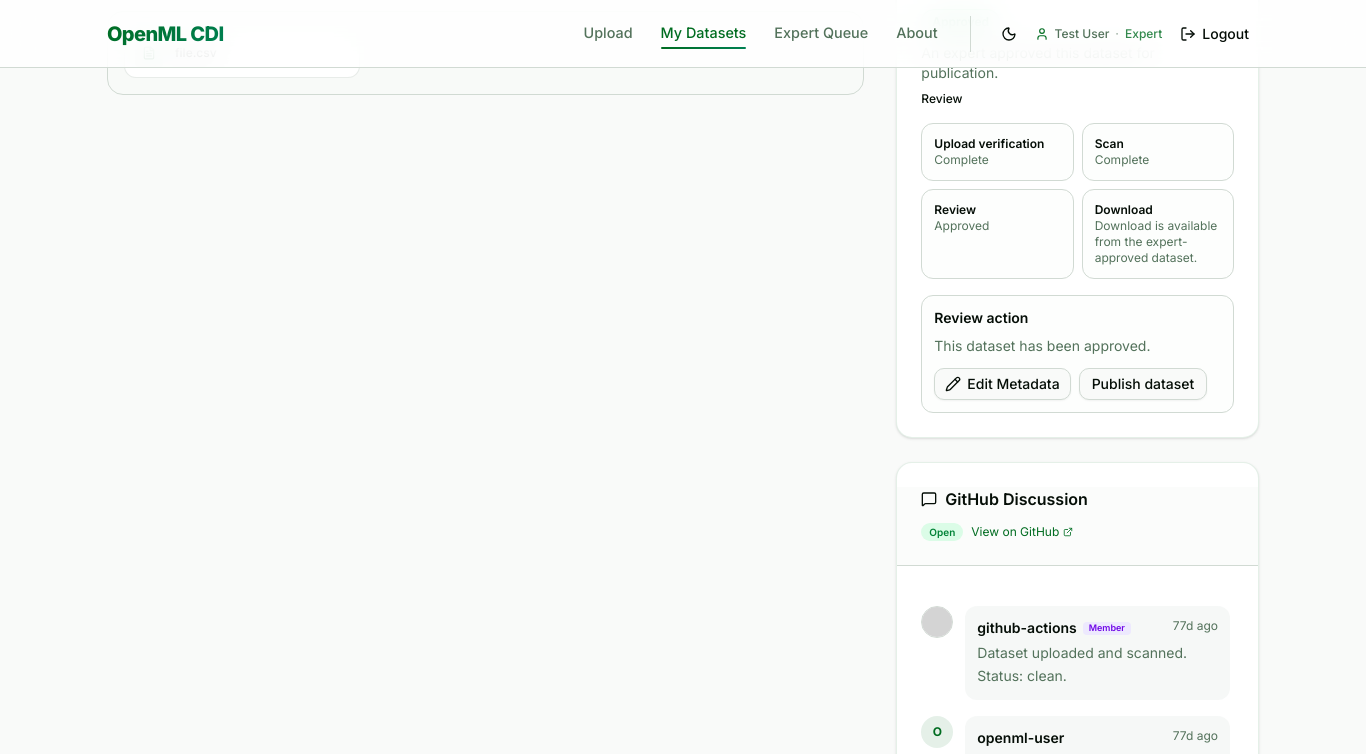
it: DatasetDetailPage › shows backend lifecycle errors when publishing fails
(page scrolled)
Click the button "Publish dataset" at (1143, 384), box [1079,368,1207,400]
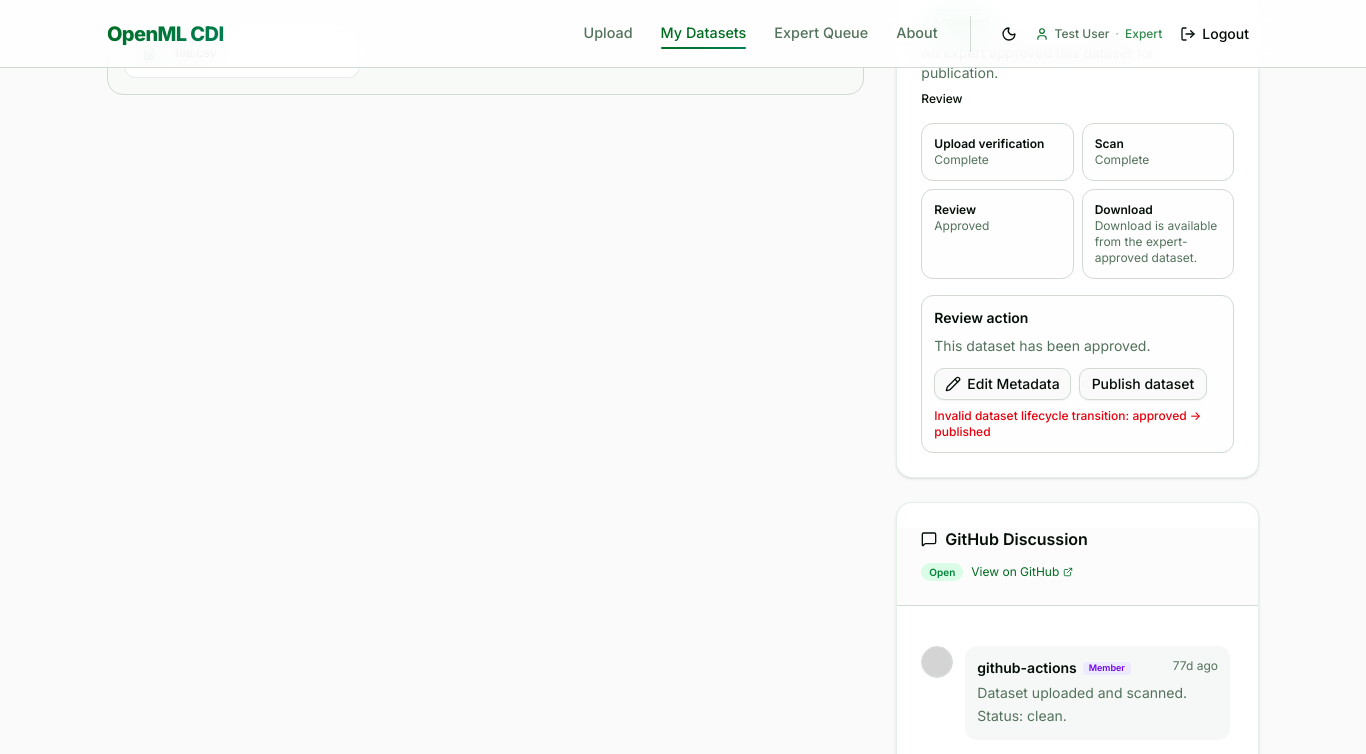
Check: the text "Invalid dataset lifecycle transition: approved -> published" is shown, box [934,408,1221,440]
